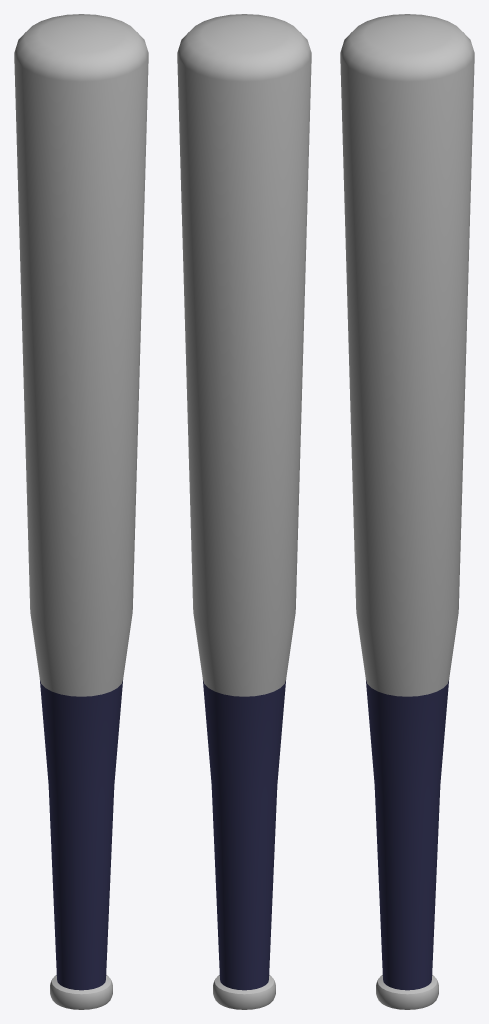
The model's file is Bat.fbx.
3 renders of one model, left to right at view 1: azimuth 30°, elevation 25°; view 2: azimuth 210°, elevation 25°; view 3: azimuth 330°, elevation 25°, orthographic.
Parts seen in each view (by area): view 1: Cylinder; view 2: Cylinder; view 3: Cylinder.
Boxes of the visible parts, x1,y1,x2,y2 form: Cylinder: (14,14,148,1009); Cylinder: (177,14,311,1009); Cylinder: (340,14,474,1009).
Size of the model in its own units: 43.3 by 343 by 43.3.
